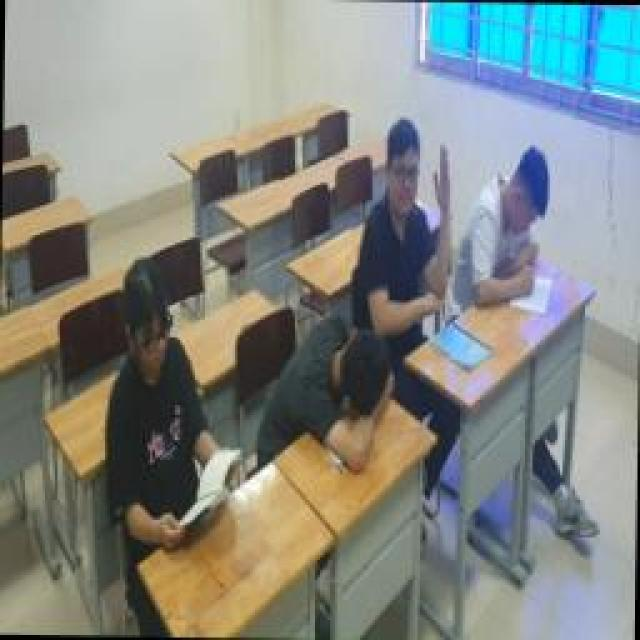sleep: (260, 320, 395, 468)
study: (105, 260, 245, 552), (350, 120, 485, 375), (460, 145, 558, 317)
